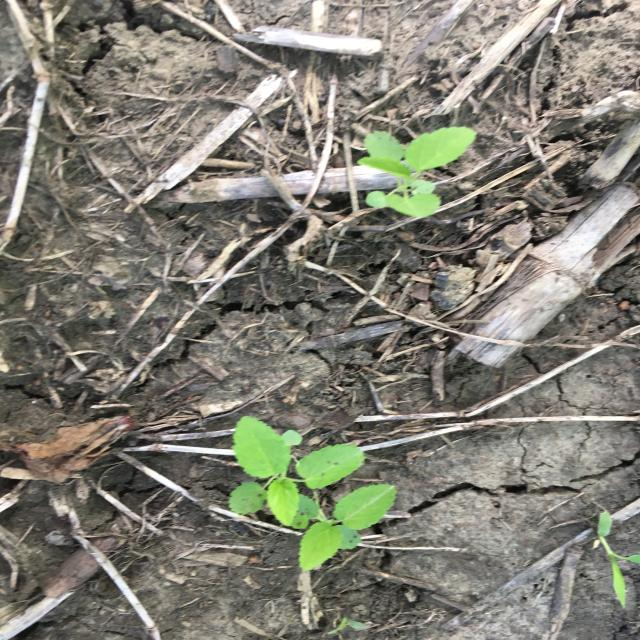PricklySida: (226, 416, 398, 572), (356, 125, 479, 220)
